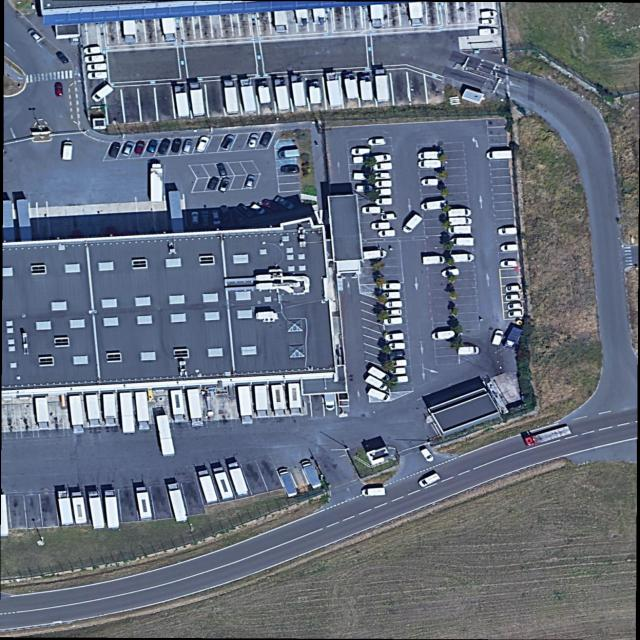large-vehicle: (524, 426, 572, 448), (166, 482, 189, 523), (226, 461, 250, 497), (156, 415, 176, 458), (212, 466, 235, 501), (197, 469, 219, 504), (88, 491, 106, 530), (186, 389, 204, 428), (299, 460, 323, 489), (239, 78, 257, 114), (69, 395, 85, 435), (135, 486, 153, 521), (223, 79, 240, 115), (325, 72, 342, 108), (277, 468, 298, 497), (120, 392, 134, 435), (105, 490, 120, 530), (135, 391, 150, 431), (57, 490, 74, 525), (274, 77, 292, 110), (238, 386, 253, 425), (71, 491, 88, 524), (189, 82, 205, 117), (374, 68, 390, 103), (174, 84, 190, 118), (170, 389, 186, 423), (271, 384, 287, 417), (34, 397, 50, 429), (290, 75, 306, 107), (150, 164, 163, 202), (86, 395, 101, 426), (103, 394, 117, 427), (255, 385, 269, 417), (288, 383, 302, 415), (344, 72, 360, 100), (359, 73, 374, 102), (367, 366, 392, 383), (364, 375, 389, 391), (161, 17, 177, 42), (367, 387, 391, 403), (257, 80, 272, 105), (307, 80, 322, 105), (408, 2, 423, 26), (274, 10, 287, 33), (124, 20, 136, 44), (371, 5, 384, 27)
small-vehicle: (400, 214, 423, 234), (90, 84, 114, 103), (417, 473, 442, 489), (260, 199, 284, 214), (420, 200, 447, 212), (274, 196, 295, 210), (236, 203, 255, 218), (220, 134, 236, 151), (486, 150, 513, 160), (419, 448, 436, 463), (432, 330, 455, 341), (449, 253, 474, 263), (361, 487, 386, 497), (278, 149, 300, 160), (449, 217, 473, 227), (108, 141, 122, 158), (157, 138, 171, 155), (196, 136, 210, 153), (491, 329, 505, 346), (417, 151, 442, 160), (417, 160, 442, 169), (121, 141, 135, 157), (246, 133, 260, 149), (250, 203, 267, 216), (448, 208, 472, 217), (448, 226, 472, 235), (146, 139, 160, 154), (259, 132, 273, 147), (55, 51, 70, 65), (372, 162, 393, 172), (62, 142, 73, 161), (218, 177, 231, 193), (27, 29, 43, 42), (448, 238, 474, 246), (423, 256, 446, 265), (373, 154, 393, 164), (86, 71, 108, 80), (364, 250, 386, 259), (133, 140, 146, 155), (170, 138, 183, 153), (210, 209, 222, 225), (441, 268, 460, 278), (86, 63, 107, 72), (458, 346, 479, 355), (497, 227, 518, 236), (384, 333, 405, 342), (324, 394, 335, 411), (207, 176, 220, 190), (220, 205, 230, 223), (181, 139, 193, 154), (383, 317, 403, 326), (389, 359, 408, 368), (371, 222, 390, 231), (391, 376, 409, 385), (500, 244, 518, 253), (200, 211, 210, 227), (85, 55, 105, 63), (217, 163, 228, 177), (245, 175, 256, 189), (481, 10, 498, 19), (479, 28, 498, 36), (387, 350, 406, 358), (351, 148, 370, 156), (374, 198, 393, 206), (362, 206, 381, 214), (381, 283, 400, 291), (384, 301, 403, 309), (281, 166, 299, 174), (505, 285, 523, 293), (388, 342, 406, 350), (368, 138, 386, 146), (375, 180, 393, 188), (378, 230, 396, 238), (84, 47, 101, 55), (500, 260, 517, 268), (375, 188, 392, 196), (380, 213, 397, 221), (506, 294, 522, 302), (479, 18, 495, 26), (382, 292, 400, 299), (190, 212, 200, 224), (508, 310, 523, 318), (389, 368, 406, 375), (421, 179, 438, 186), (374, 172, 391, 179), (385, 309, 402, 316), (55, 82, 63, 96), (507, 303, 523, 310)
